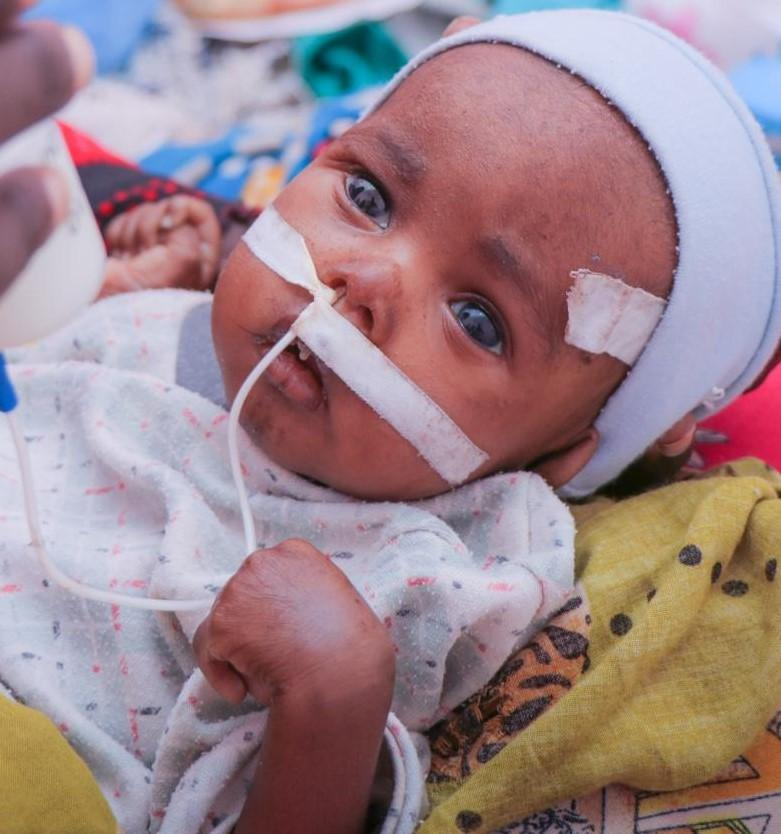Stunting: (186, 46, 764, 602)
